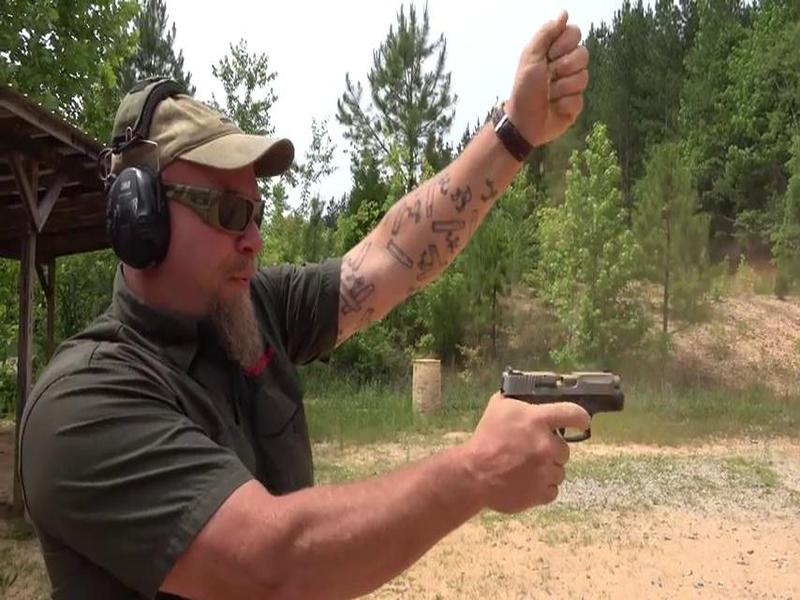Pistola: (477, 339, 647, 495)
